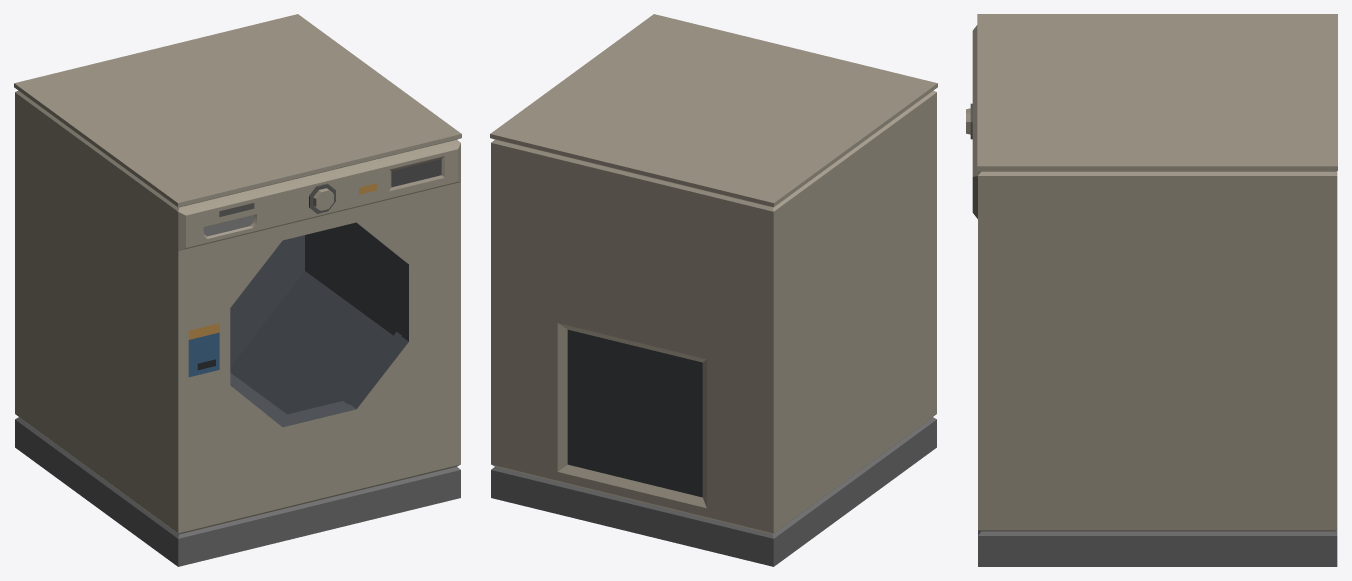
The model's file is SM_Prop_Laundry_Washer_01.fbx.
The picture shows the model from 3 angles, left to right: view 1: azimuth 30°, elevation 25°; view 2: azimuth 150°, elevation 25°; view 3: azimuth 270°, elevation 25°; orthographic projection. The views are drawn at different scales.
Parts seen in each view (by area): view 1: SM_Prop_Laundry_Washer_01; view 2: SM_Prop_Laundry_Washer_01; view 3: SM_Prop_Laundry_Washer_01.
Part boxes in pixels (left/top/right/bottom): SM_Prop_Laundry_Washer_01: left=14, top=14, right=461, bottom=566; SM_Prop_Laundry_Washer_01: left=490, top=14, right=937, bottom=566; SM_Prop_Laundry_Washer_01: left=966, top=14, right=1337, bottom=566.
Size of the model in its own units: 100 by 123 by 103.
